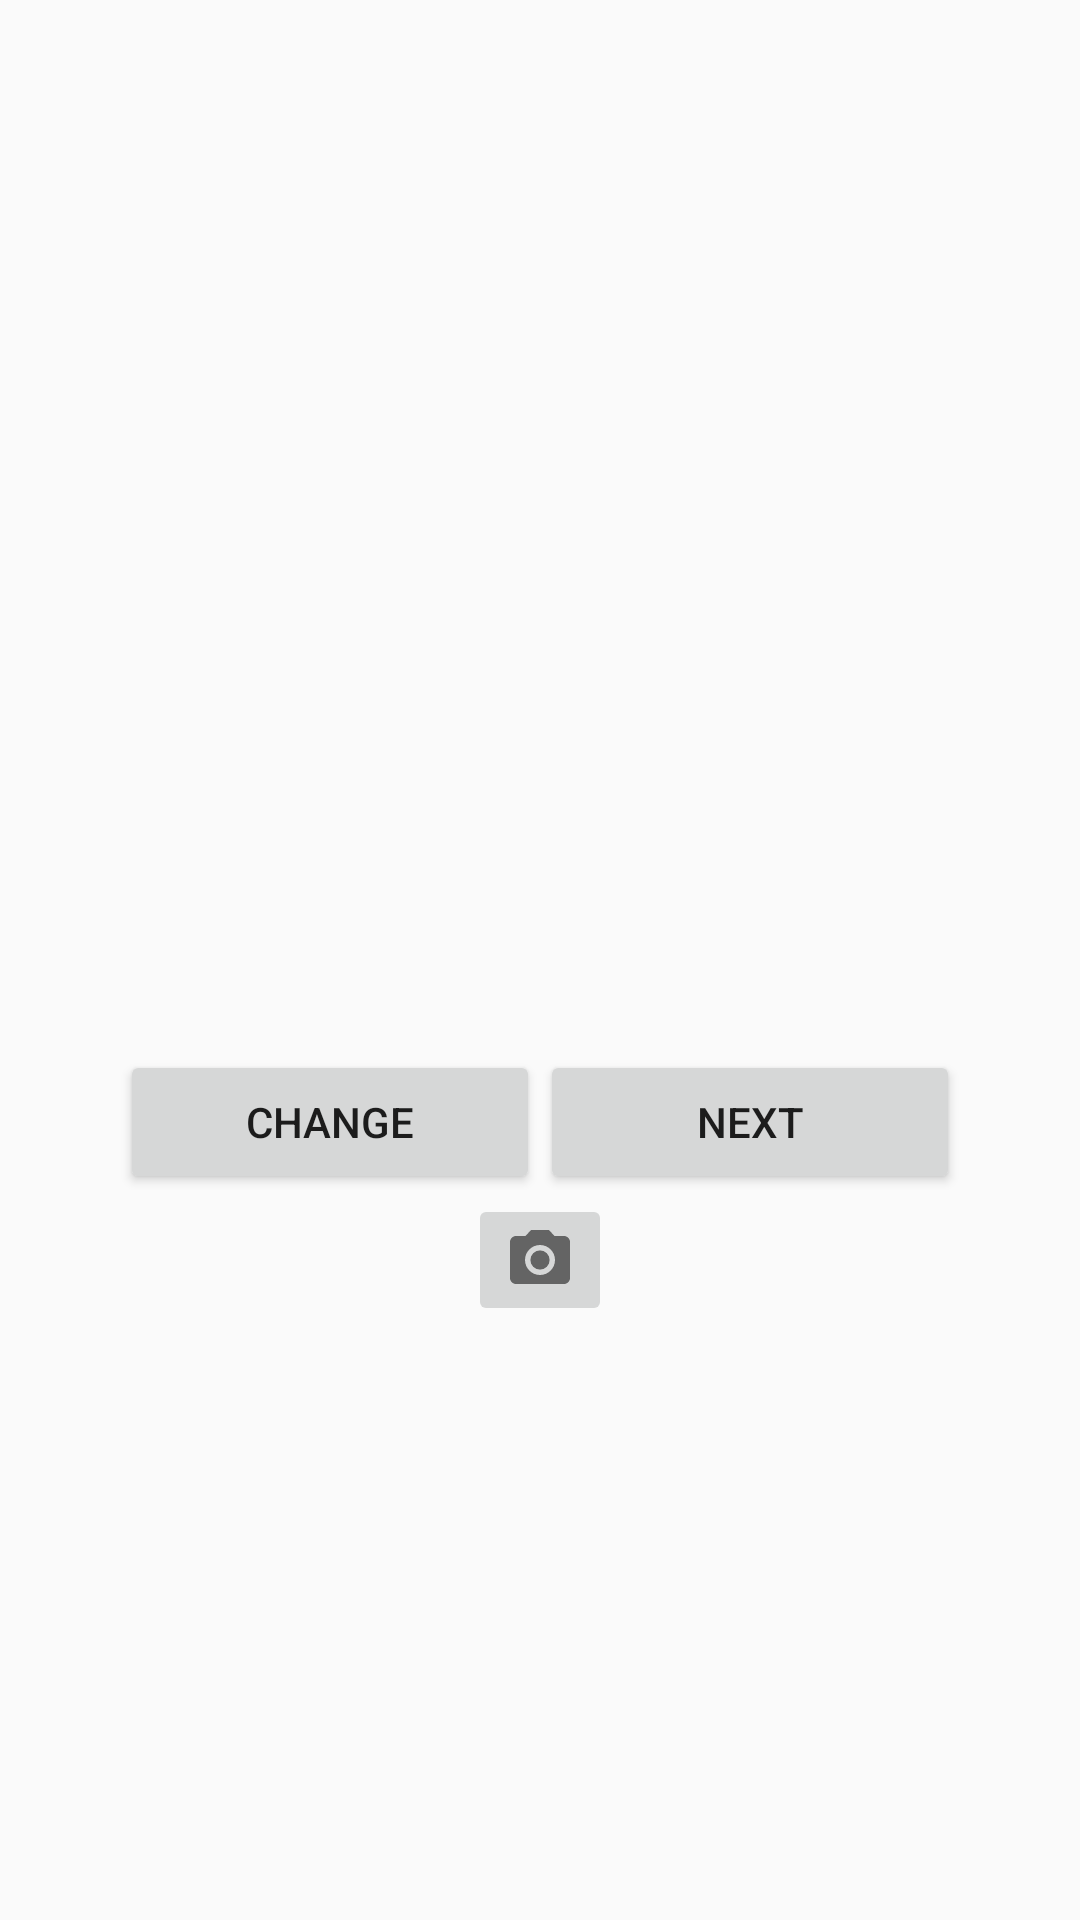

Named icons in this screenshot (1080×1920) and their centers, point (x, y):
camera: point (540, 1260)
